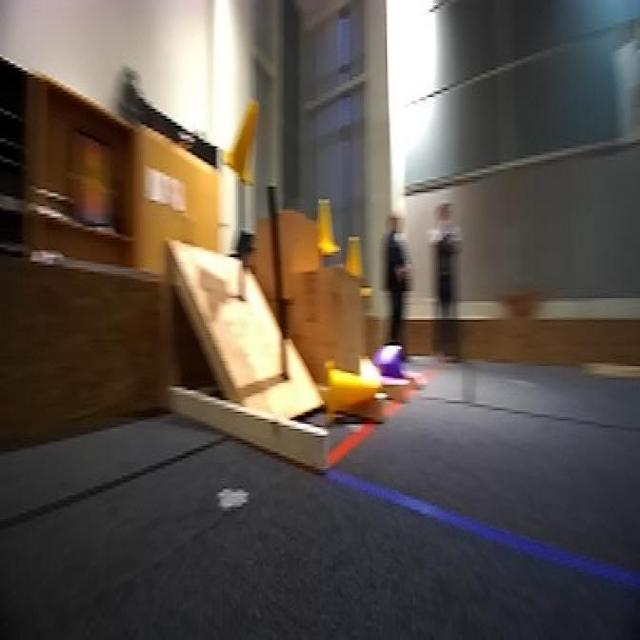frc_cone: (221, 97, 260, 192), (325, 364, 380, 424), (314, 199, 336, 261), (348, 237, 366, 279)
frc_cube: (377, 346, 407, 388)
